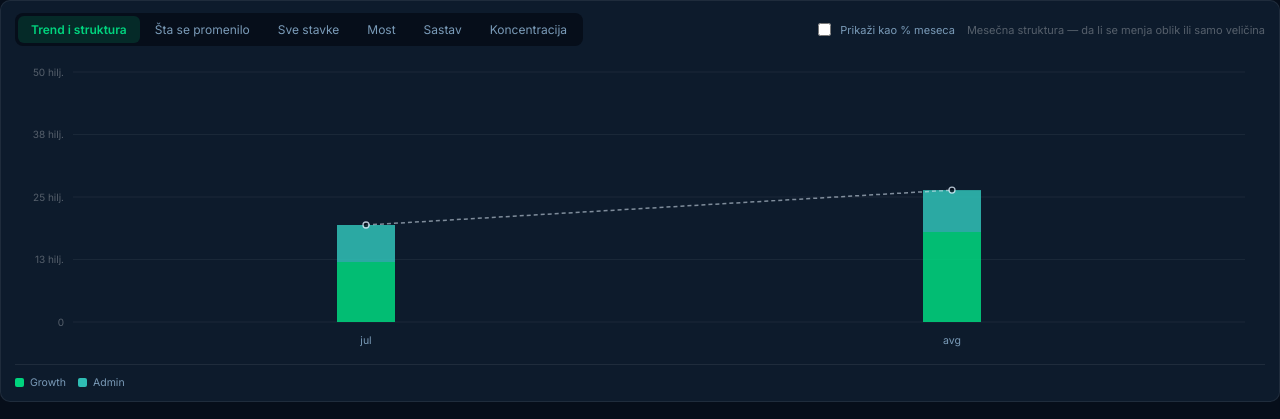
Test case: the panels that read a level › names the depth buttons after the branch rather than "level 2"
The image size is (1280, 419).
Click the button "Šta se promenilo" at (202, 30), box [142, 16, 263, 43]
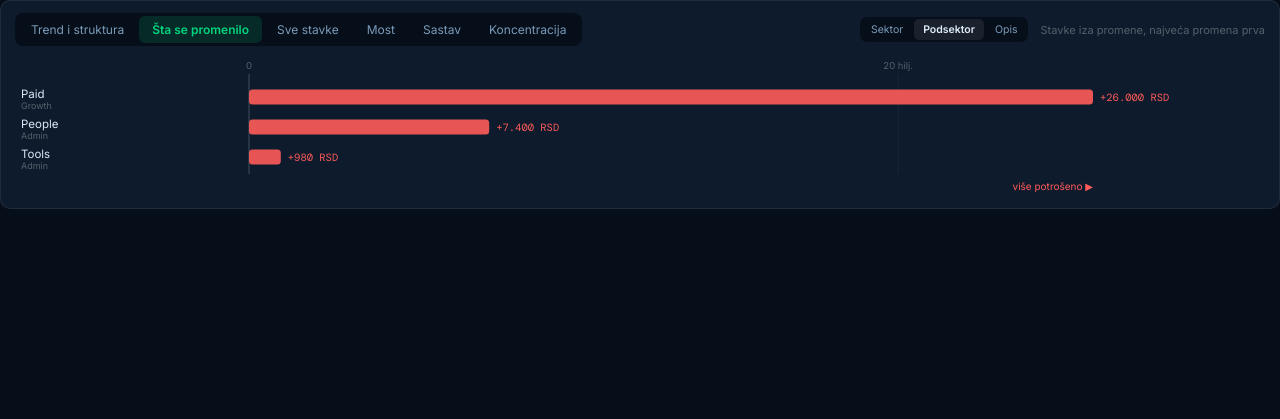
Expected: the button "Sektor" is shown, [862, 19, 912, 40]
Expected: the button "Podsektor" is shown, [914, 19, 984, 40]
Expected: the button "Opis" is shown, [986, 19, 1026, 40]
